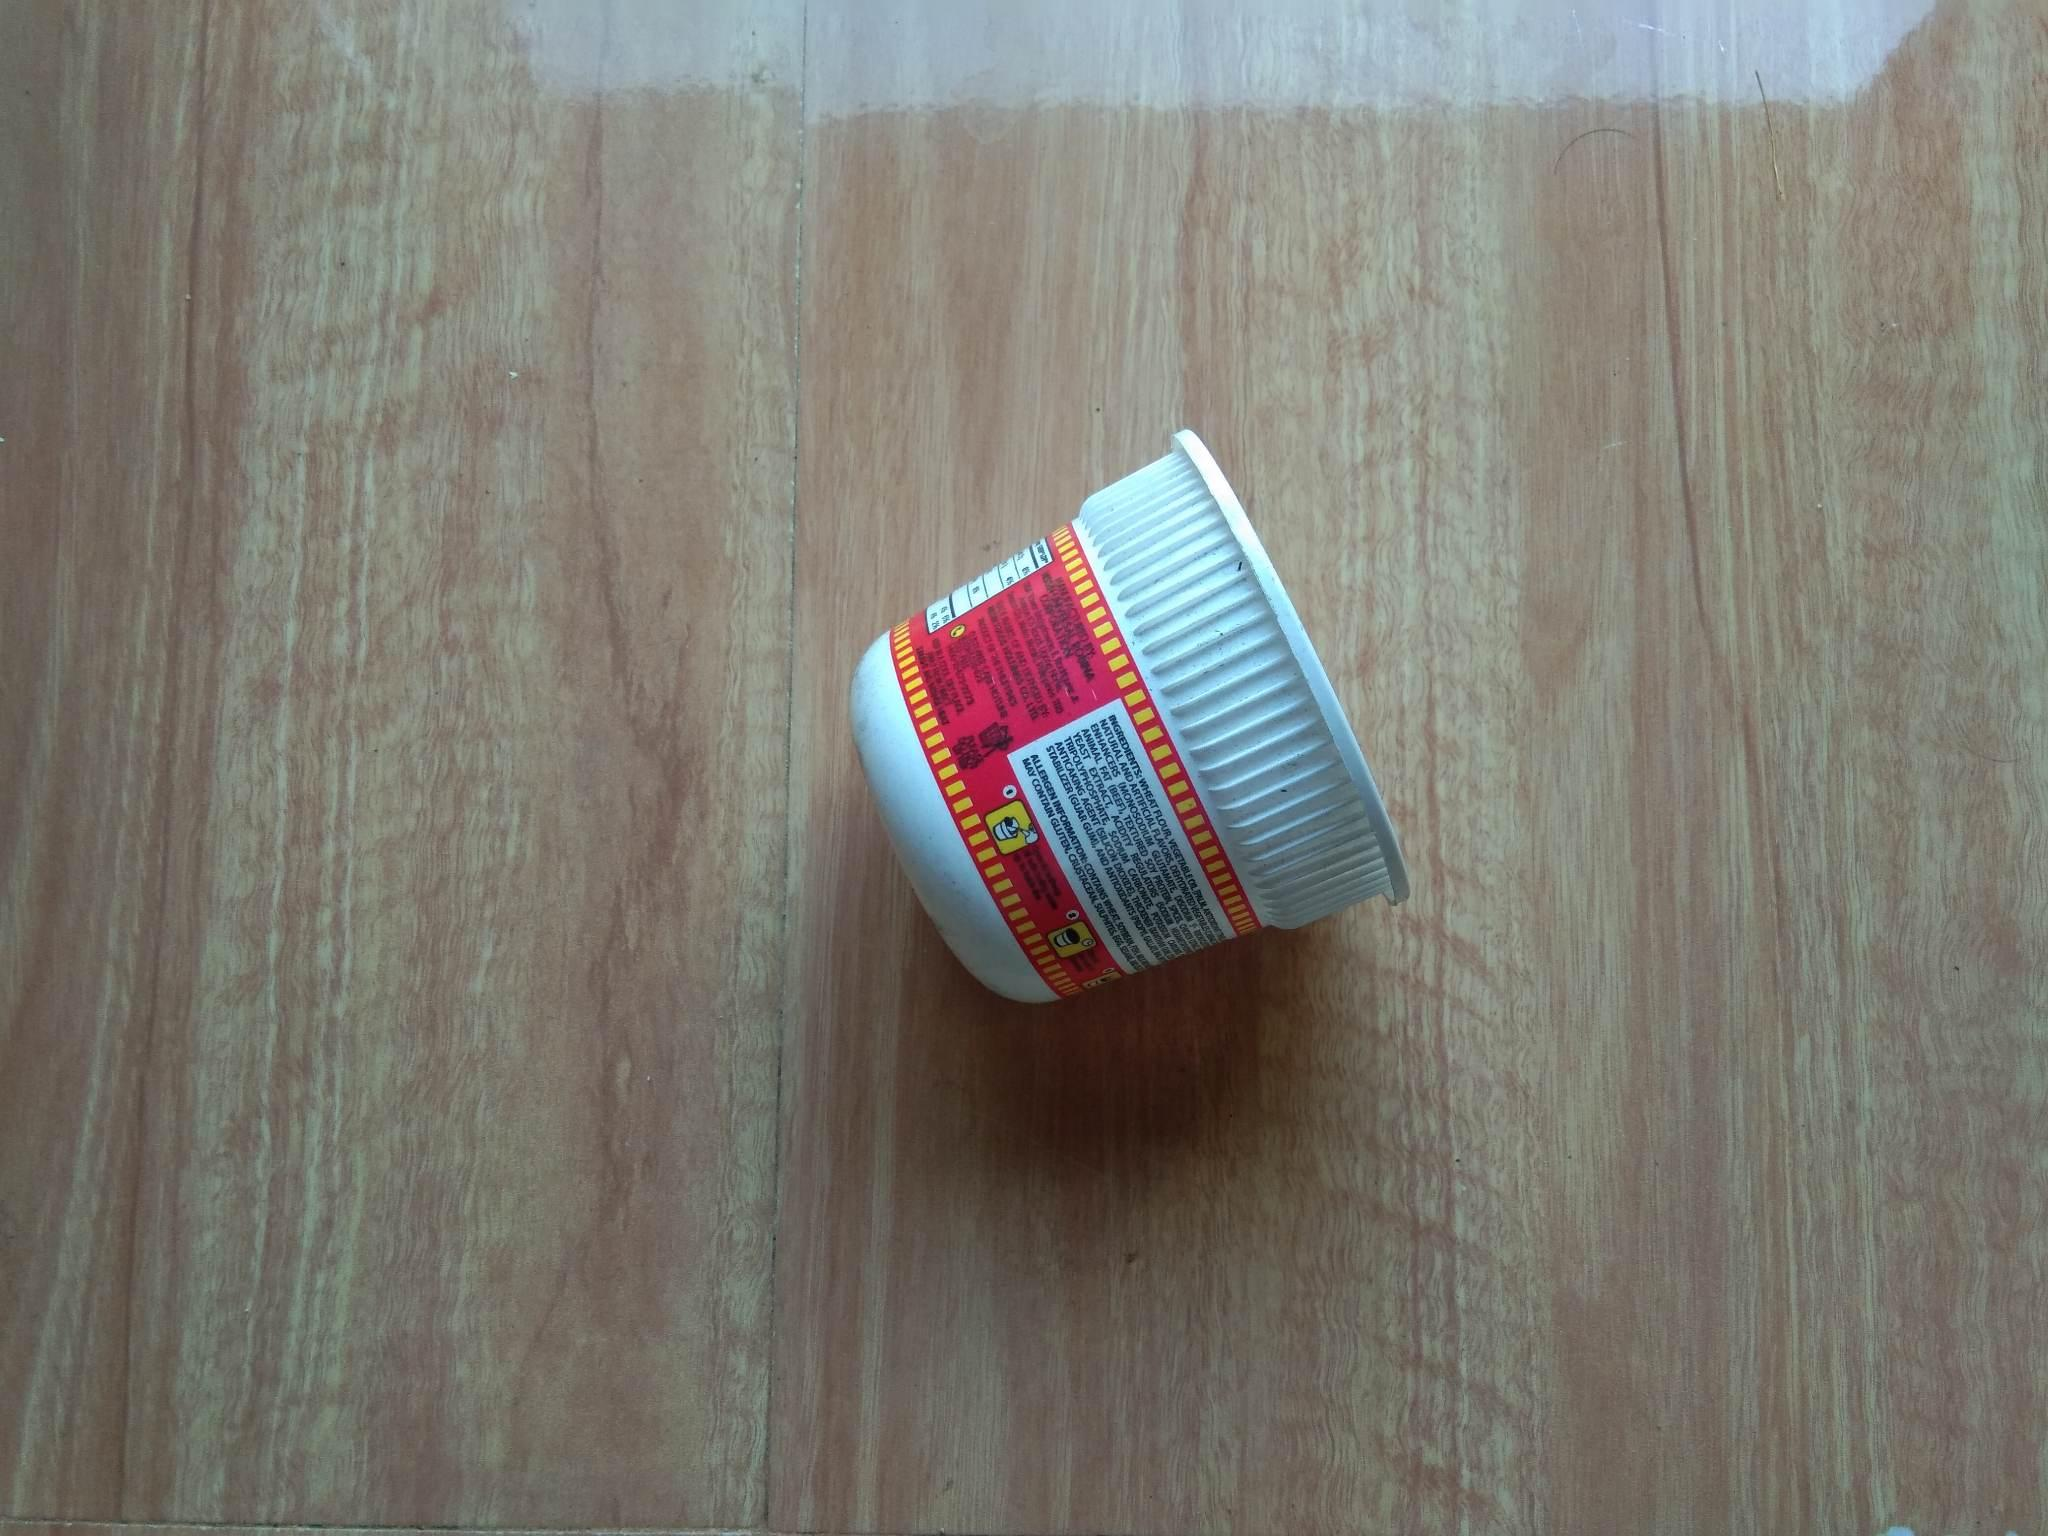plastic: (742, 390, 1461, 1100)
